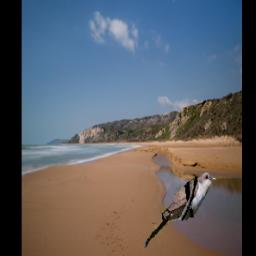Cuckoo: (143, 172, 216, 249)
